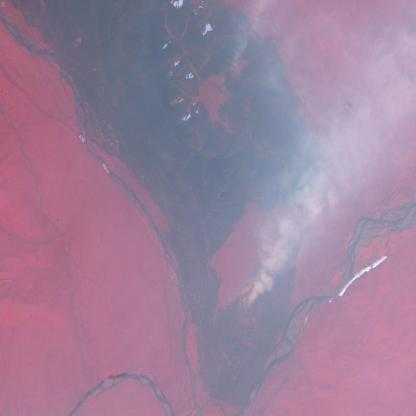fire: (227, 211, 318, 332), (216, 23, 274, 100)
